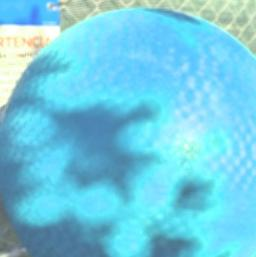algae: (0, 5, 256, 257)
